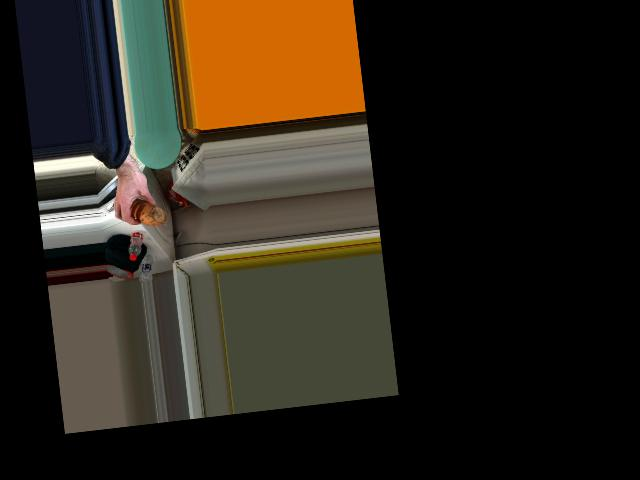sweet_potato: (127, 196, 161, 230)
